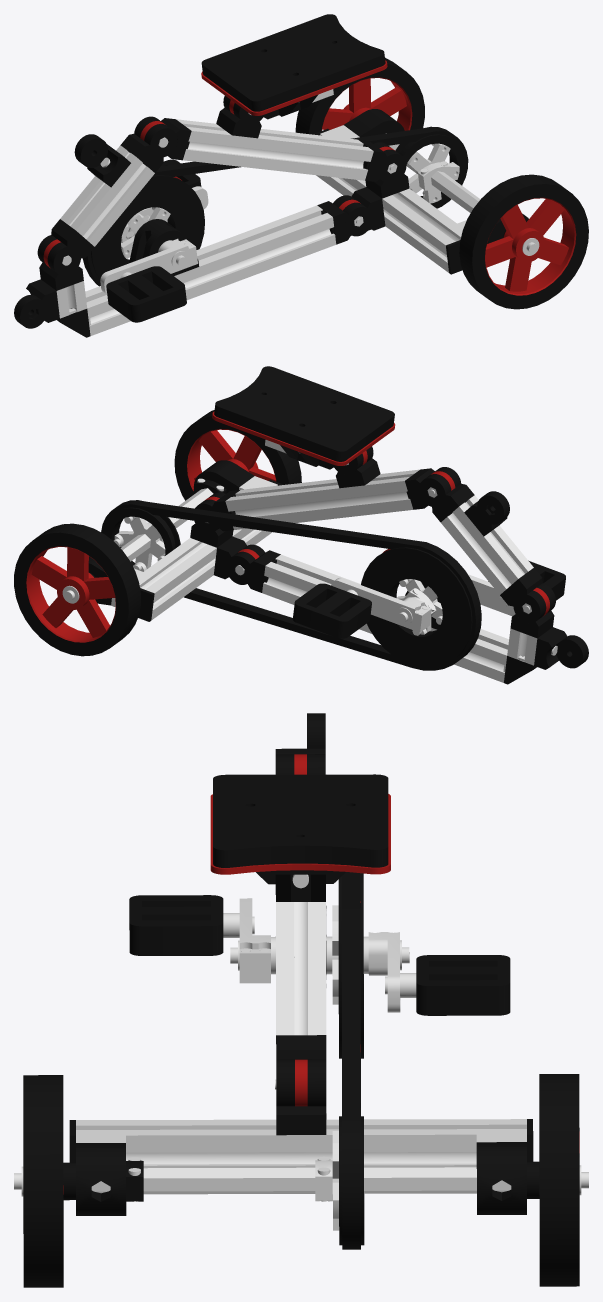
The model's file is Velo_infento_etape4.fbx.
The picture shows the model from 3 angles, top to bottom: view 1: azimuth 30°, elevation 25°; view 2: azimuth 150°, elevation 25°; view 3: azimuth 270°, elevation 25°; orthographic projection. The views are drawn at different scales.
Visible parts, largest first — view 1: Velo_infento.004; view 2: Velo_infento.004; view 3: Velo_infento.004.
Part boxes in pixels (x1=…): Velo_infento.004: x1=14, y1=14, x2=588, y2=337; Velo_infento.004: x1=14, y1=366, x2=588, y2=684; Velo_infento.004: x1=14, y1=713, x2=588, y2=1287.
Size of the model in its own units: 0.7108 by 0.3205 by 0.459.
